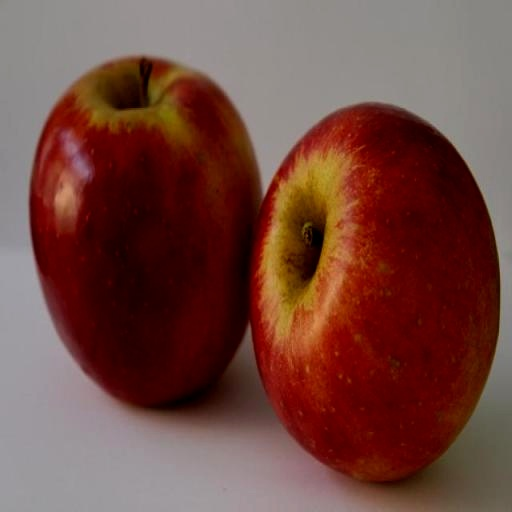fruit: (120, 155, 392, 512), (15, 121, 49, 371)
